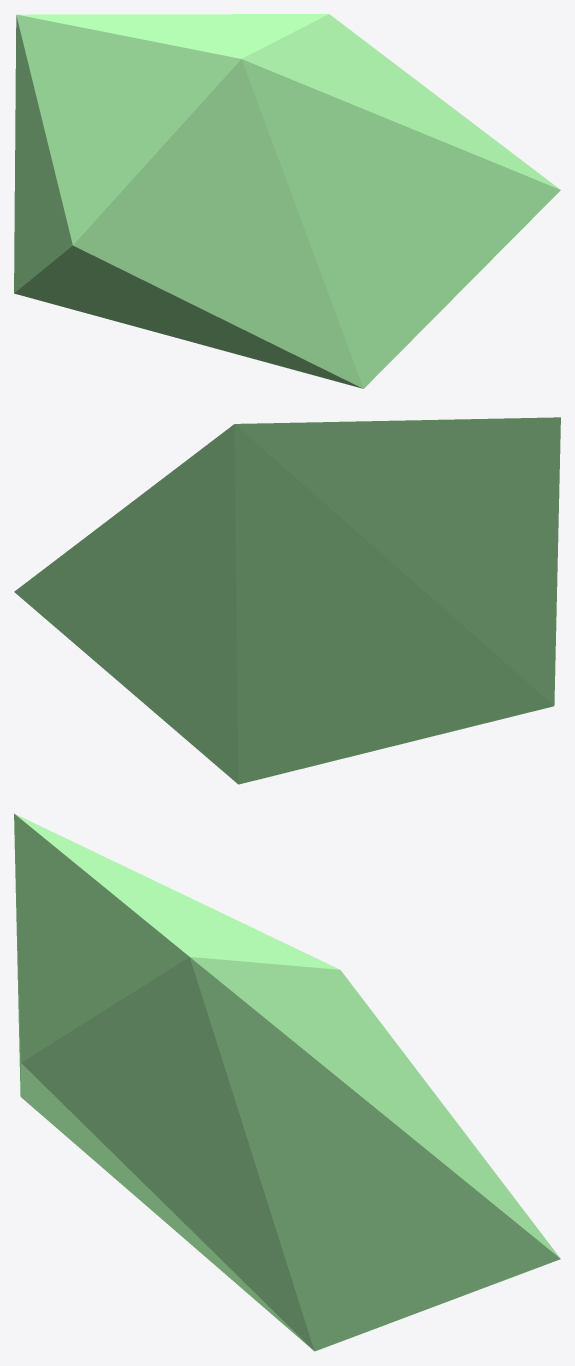
Rendered from linkhou_LR4_R560_link2_respondable_coll_22.dae.
3 renders of one model, top to bottom at view 1: azimuth 30°, elevation 25°; view 2: azimuth 150°, elevation 25°; view 3: azimuth 330°, elevation 25°, orthographic.
Parts seen in each view (by area): view 1: Node_0000029808437380; view 2: Node_0000029808437380; view 3: Node_0000029808437380.
Part boxes in pixels (x1,y1,x2,y2): Node_0000029808437380: (14, 14, 560, 388); Node_0000029808437380: (14, 417, 560, 784); Node_0000029808437380: (14, 813, 560, 1351).
Bounding box in the file's own units: 0.071 × 0.0545 × 0.00695.
